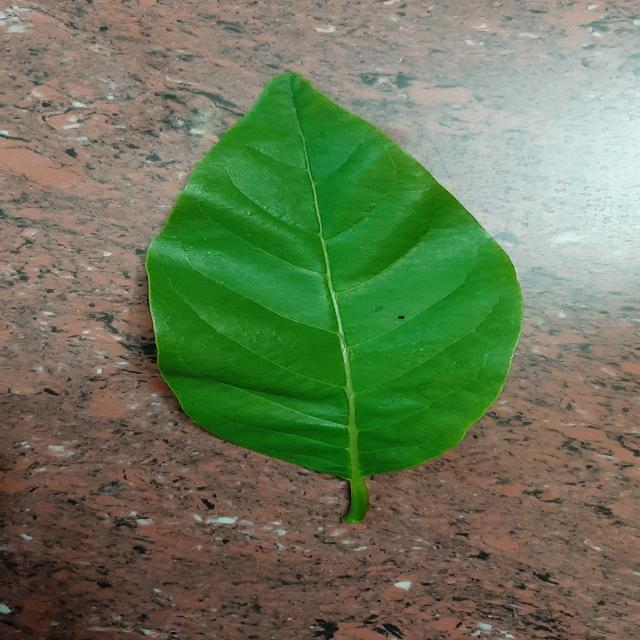seethaphala: (146, 72, 520, 524)
